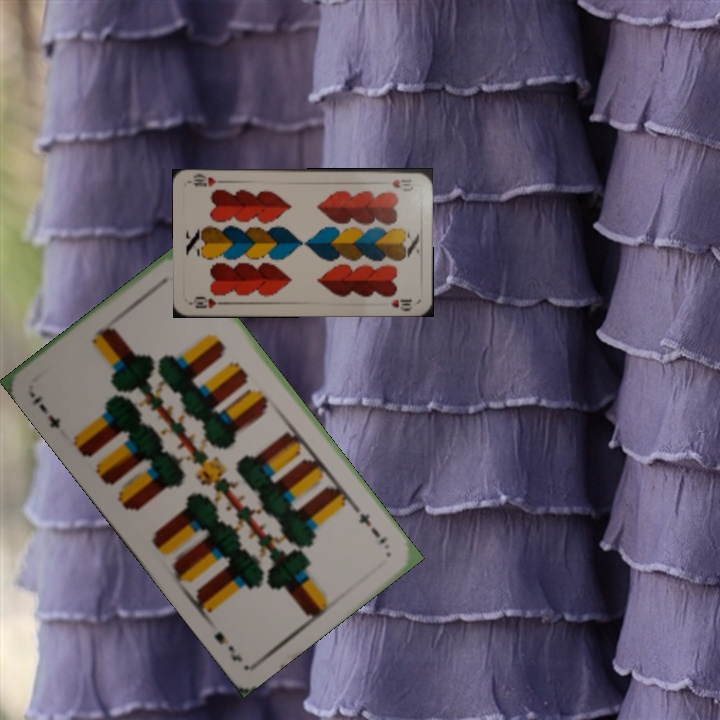E7: (350, 503, 391, 548), (27, 391, 63, 431)
H10: (188, 293, 228, 311), (388, 176, 414, 190)
